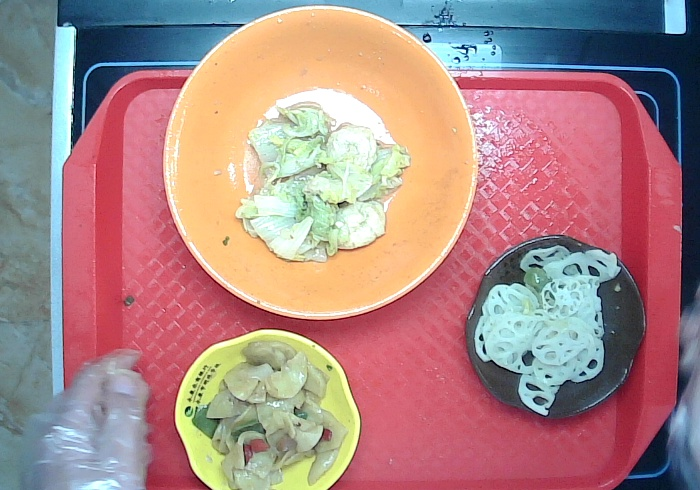YKMZ-Huang_Se_Ao_Bian_Wan: (173, 326, 362, 490)
YKMZ-Ju_Se_Tang_Wan: (161, 3, 480, 322)
YKMZ-Ka_Fei_Ao_Bian_Wan: (463, 233, 648, 420)
